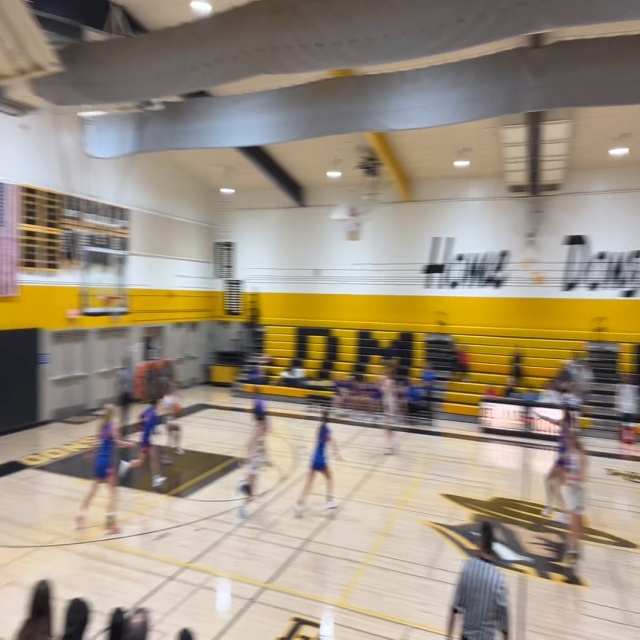Basketball: (170, 402, 182, 415)
